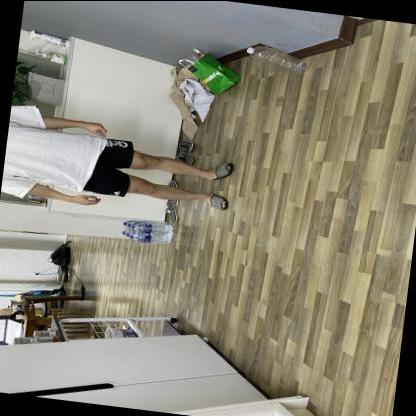no_safety-shoe: (199, 185, 237, 219), (203, 153, 243, 185)
